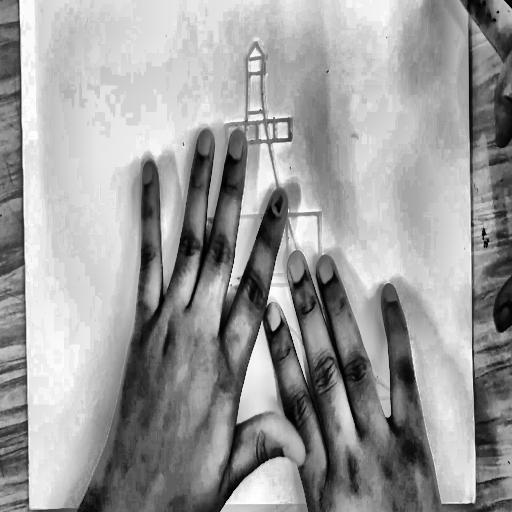bottom_left: (27, 504, 31, 512)
bottom_right: (469, 494, 479, 510)
eiffel-tower: (105, 27, 411, 418)
